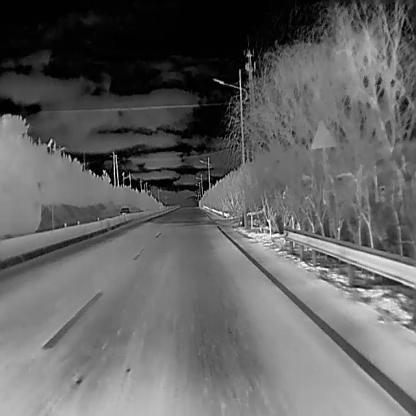car: (119, 206, 128, 216)
